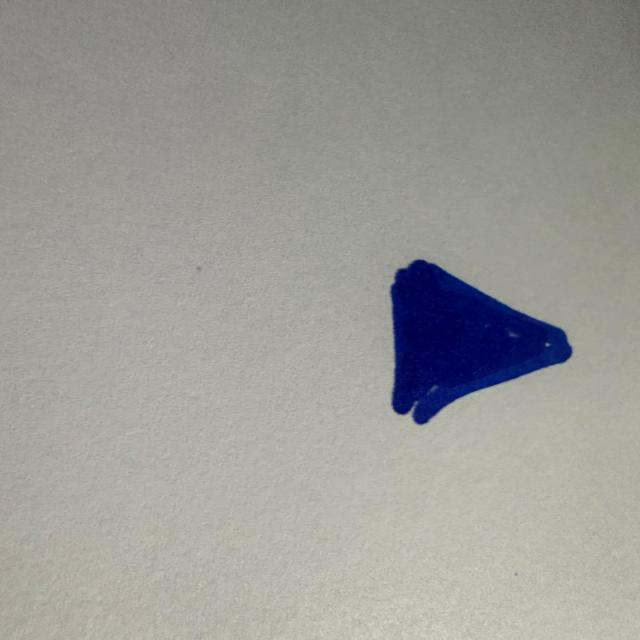Triangle: (390, 260, 571, 424)
